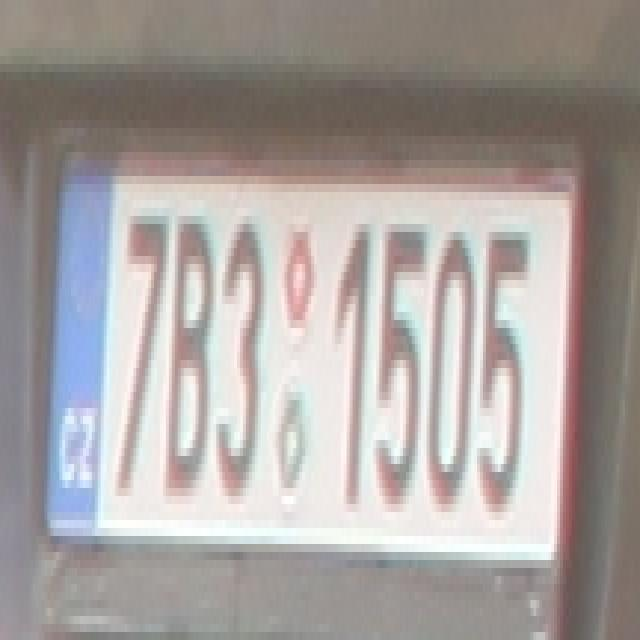0: (429, 224, 472, 504)
1: (329, 224, 367, 520)
3: (216, 216, 261, 496)
5: (471, 224, 525, 504), (379, 216, 427, 504)
7: (104, 208, 166, 504)
B: (162, 208, 210, 496)
